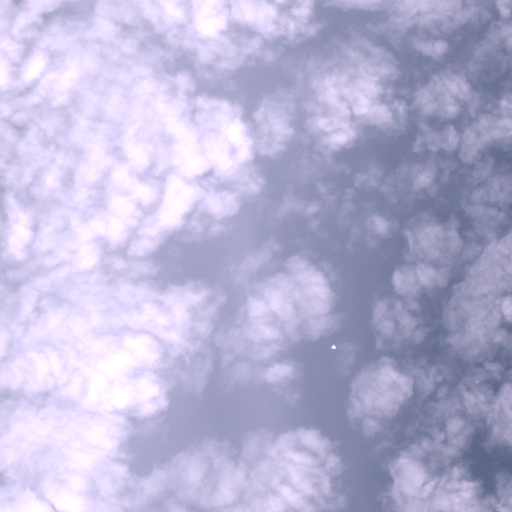Iceberg: (331, 345, 335, 348)
